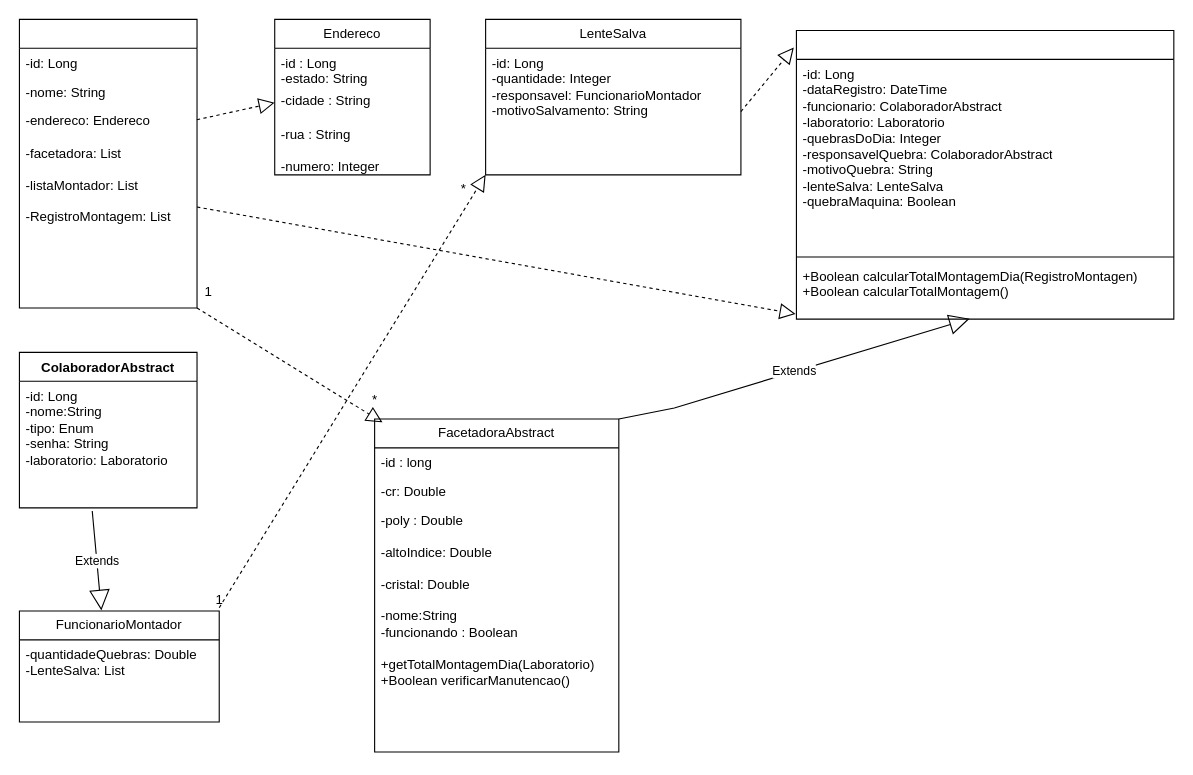
Image size: 1193x775. Some labels were removed from this diagram. The box of each missing label's shape, as (x1, y1, x2, y2) in pixels:
Laboratorio: (18, 18, 197, 308)
RegistroMontagem: (795, 29, 1174, 319)
